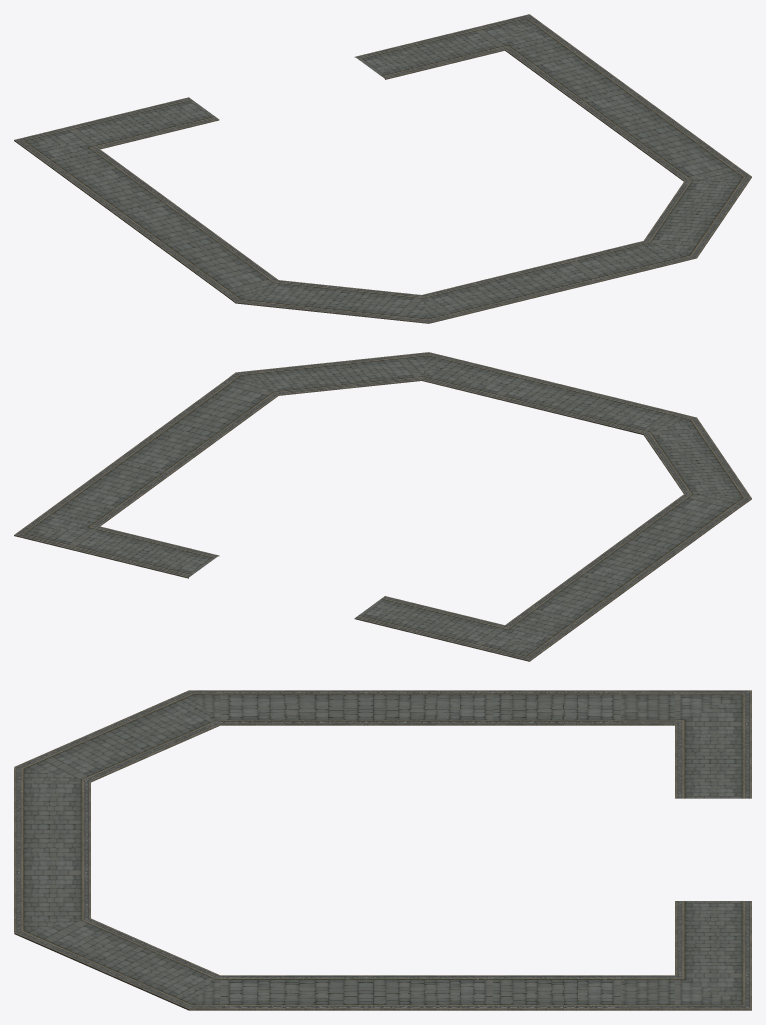
File: s7_jianzhu_lu001.FBX
3 views of the same model, one above another, from view 1: azimuth 30°, elevation 25°; view 2: azimuth 150°, elevation 25°; view 3: azimuth 270°, elevation 25° (orthographic). The views are drawn at different scales.
Visible parts, largest first — view 1: s7_jianzhu_lu001; view 2: s7_jianzhu_lu001; view 3: s7_jianzhu_lu001.
Boxes of the visible parts, bbox=[...] form: s7_jianzhu_lu001: bbox=[14, 14, 751, 323]; s7_jianzhu_lu001: bbox=[14, 352, 751, 661]; s7_jianzhu_lu001: bbox=[14, 690, 751, 1010].
Size of the model in its own units: 57.83 by 0.1127 by 56.49.
